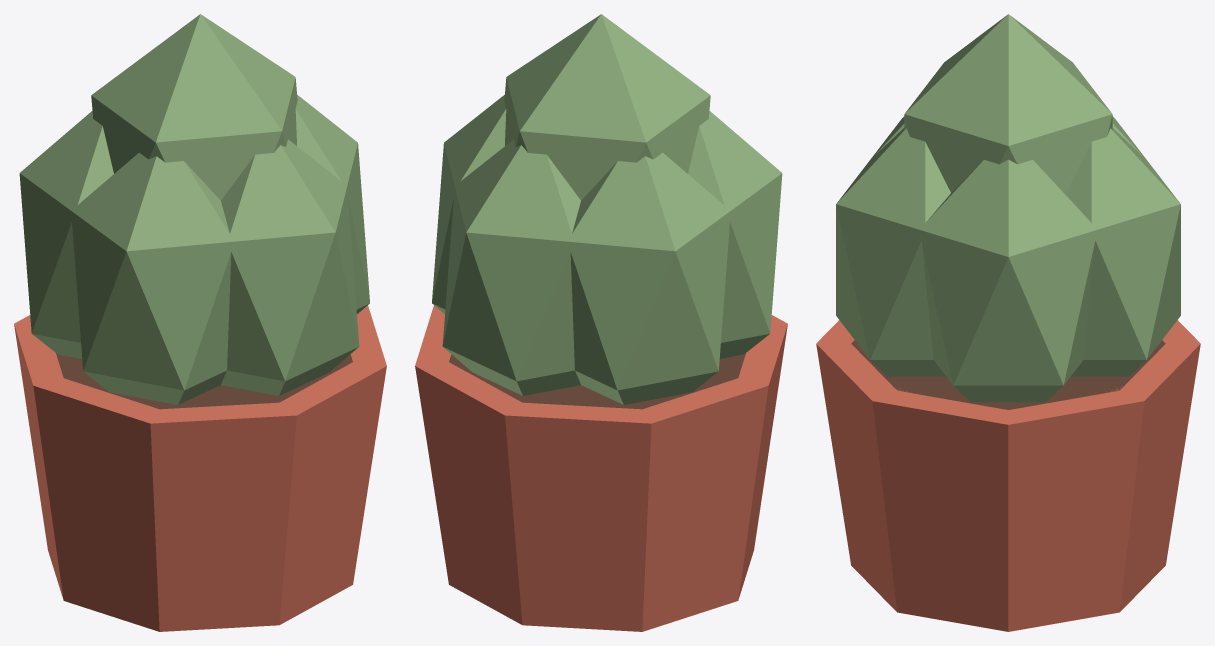
The model's file is plant_small.glb.
The picture shows the model from 3 angles, left to right: view 1: azimuth 30°, elevation 25°; view 2: azimuth 150°, elevation 25°; view 3: azimuth 270°, elevation 25°; orthographic projection.
Visible parts, largest first — view 1: plant_small; view 2: plant_small; view 3: plant_small.
Part boxes in pixels (x1=…): plant_small: x1=14, y1=14, x2=386, y2=631; plant_small: x1=415, y1=14, x2=787, y2=631; plant_small: x1=816, y1=14, x2=1200, y2=631.
Bounding box in the file's own units: 0.22 × 0.348 × 0.22.
